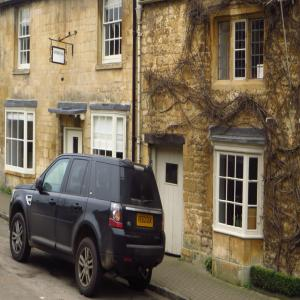Vehicle-registration-plate: (138, 216, 154, 230)
